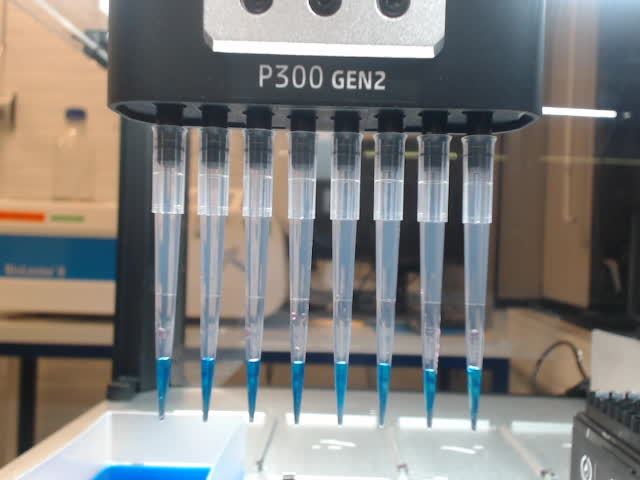Liquid: (331, 356, 356, 428), (374, 357, 398, 430), (462, 362, 486, 433), (153, 351, 176, 424), (199, 352, 221, 425), (288, 355, 310, 426), (242, 355, 264, 426), (420, 363, 442, 430)
Tip: (148, 122, 192, 424), (459, 132, 500, 437), (413, 132, 454, 432), (370, 131, 409, 432), (238, 125, 277, 426), (328, 130, 366, 430), (284, 129, 321, 427), (197, 125, 232, 426)
